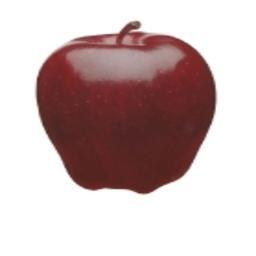apple: (36, 26, 217, 194)
